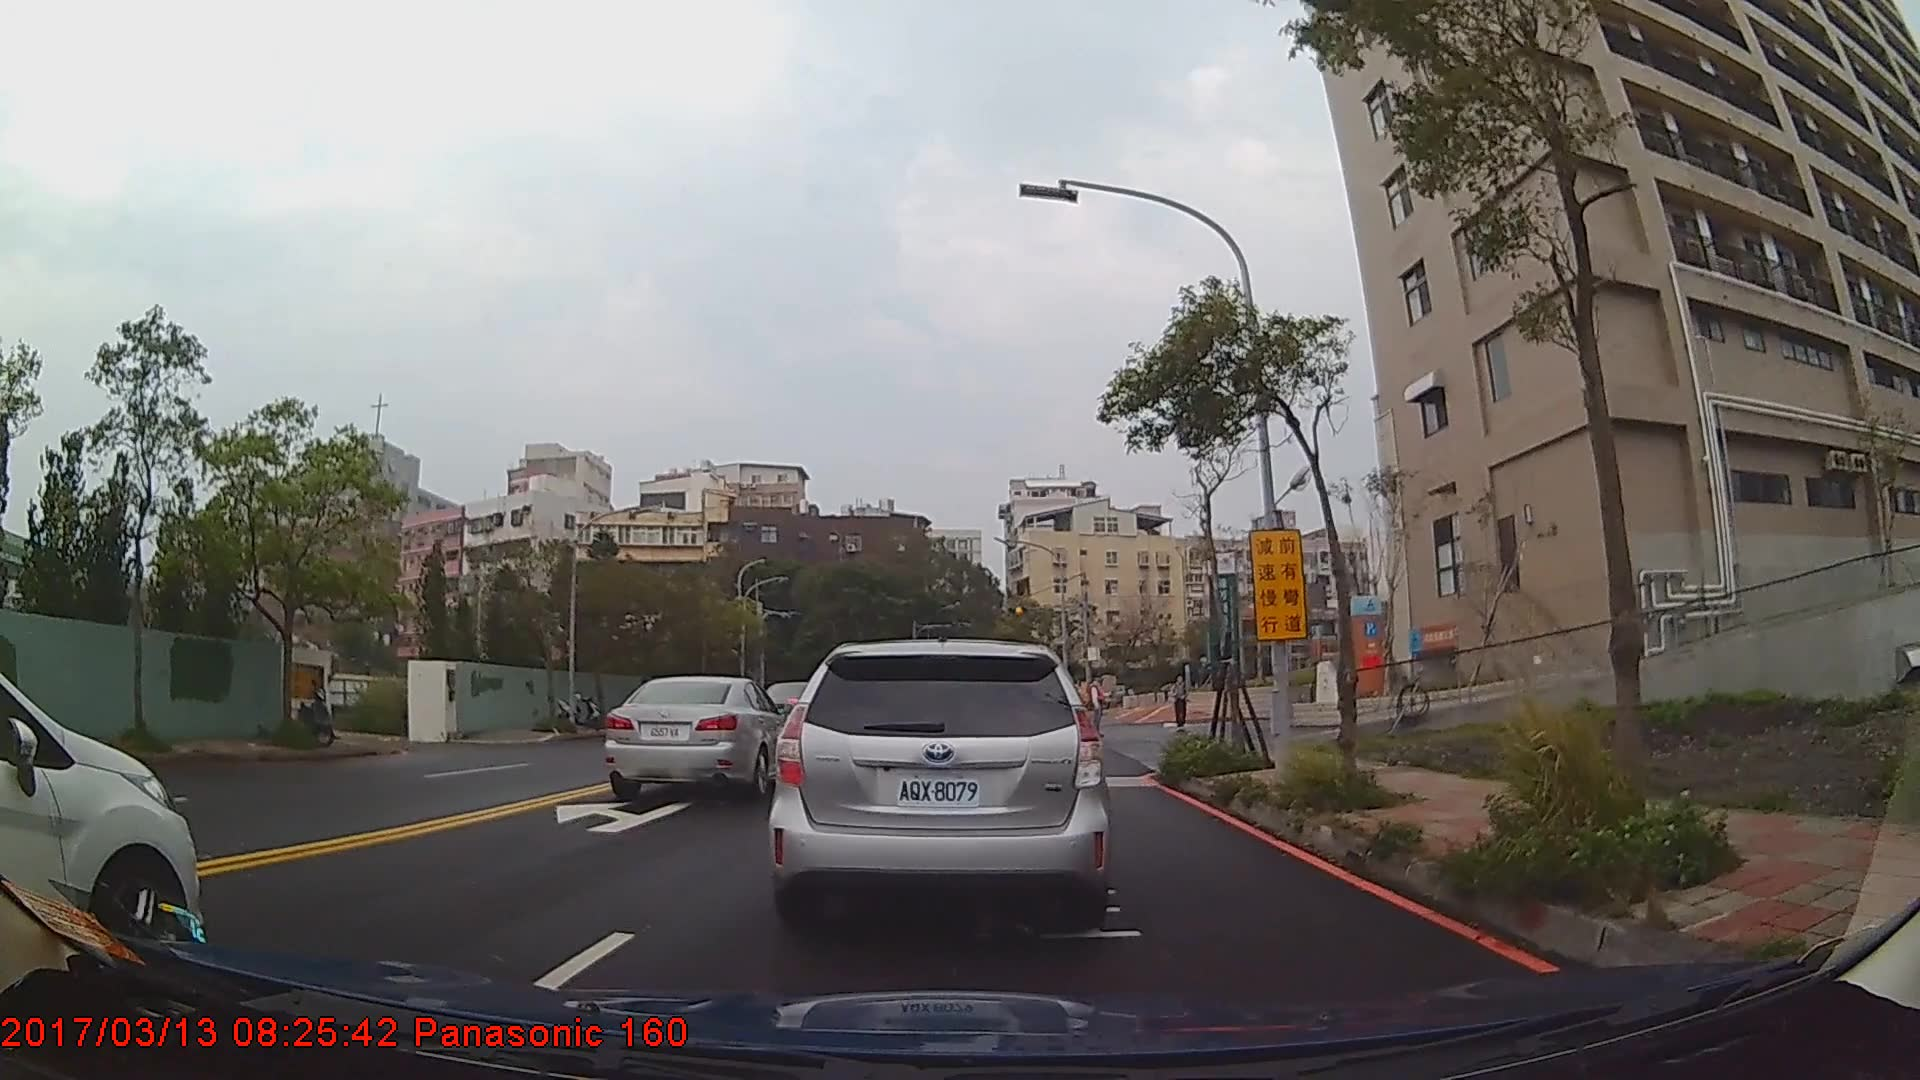pedestrian: (1087, 667, 1112, 742), (1173, 676, 1193, 733)
vehicle: (768, 637, 1113, 944), (0, 671, 202, 970), (605, 674, 793, 801)
